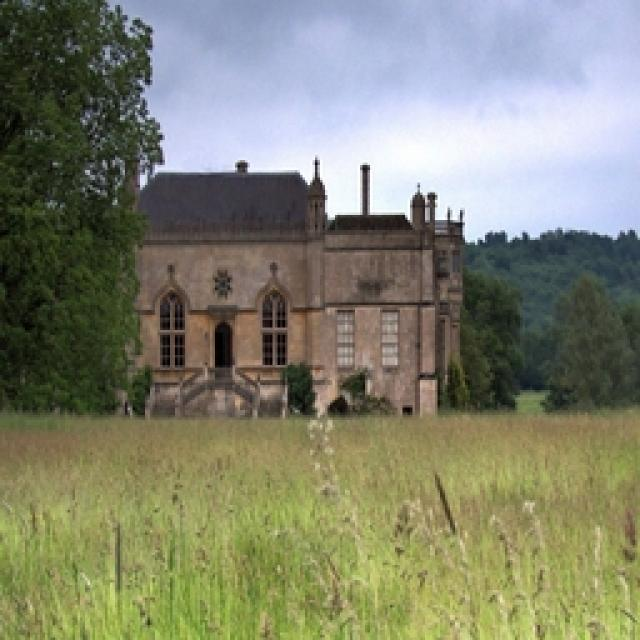Abbey: (151, 267, 311, 410)
